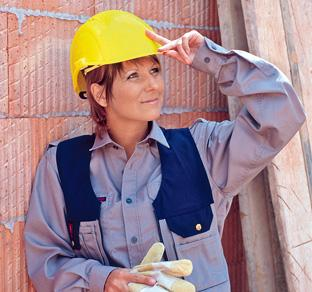helmet: (70, 10, 163, 92)
